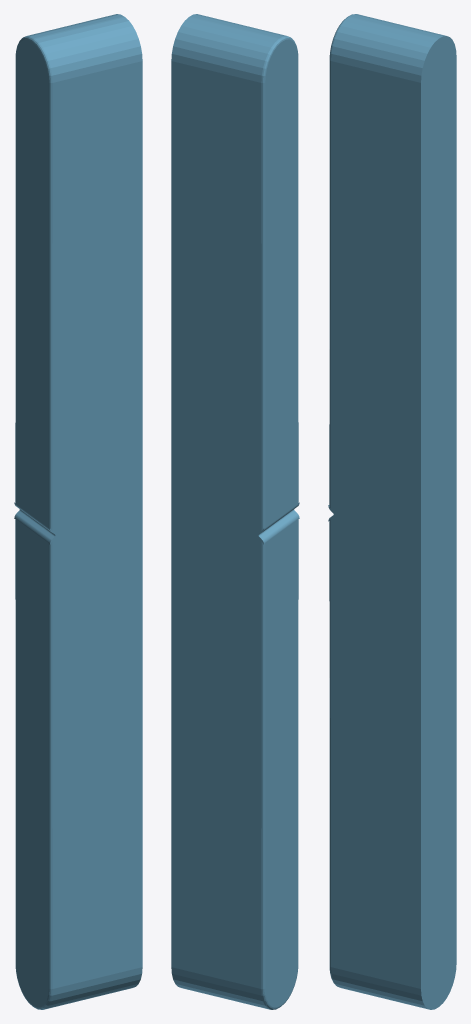
The model's file is volume.glb.
3 views of the same model, side by side, from view 1: azimuth 30°, elevation 25°; view 2: azimuth 150°, elevation 25°; view 3: azimuth 330°, elevation 25° (orthographic).
Parts seen in each view (by area): view 1: volume; view 2: volume; view 3: volume.
Boxes of the visible parts, left/top/right/bottom form: volume: left=14, top=14, right=142, bottom=1009; volume: left=171, top=14, right=299, bottom=1009; volume: left=328, top=14, right=456, bottom=1009.
Bounding box in the file's own units: 0.003 × 0.03 × 0.002.
